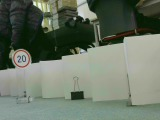speed_20: (10, 48, 32, 69)
